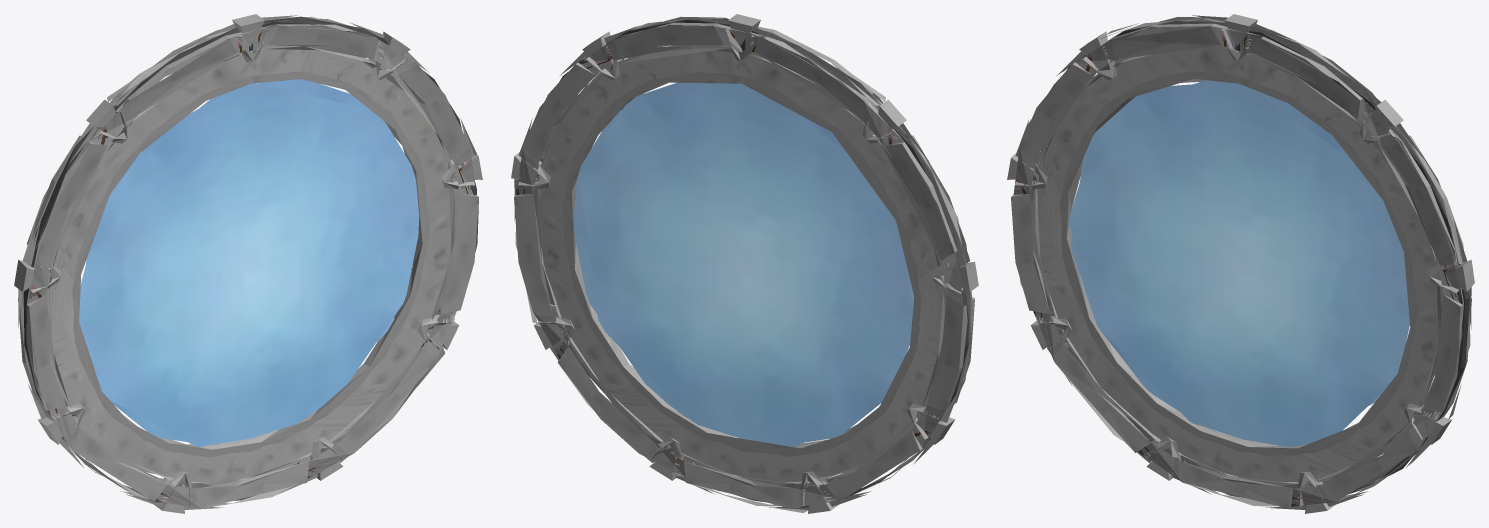
3 renders of one model, left to right at view 1: azimuth 30°, elevation 25°; view 2: azimuth 150°, elevation 25°; view 3: azimuth 330°, elevation 25°, orthographic.
Visible parts, largest first — view 1: Object_2, Object_3; view 2: Object_2, Object_3; view 3: Object_2, Object_3.
Part boxes in pixels (x1,y1,x2,y2): Object_2: (79, 79, 419, 446); Object_3: (14, 14, 482, 513); Object_2: (573, 82, 914, 446); Object_3: (511, 14, 978, 513); Object_2: (1069, 80, 1409, 446); Object_3: (1007, 14, 1474, 513).
Size of the model in its own units: 265 by 264 by 11.47.
Materials: 2 (2 with a texture image).
